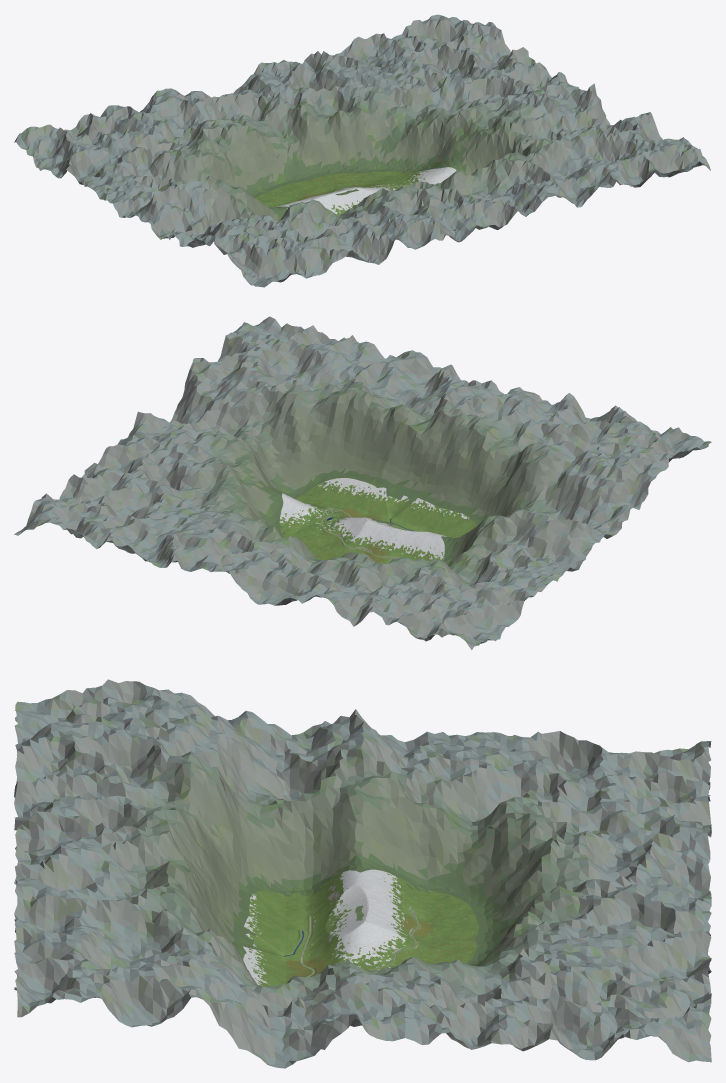
Rendered from alps.glb.
The picture shows the model from 3 angles, top to bottom: view 1: azimuth 30°, elevation 25°; view 2: azimuth 150°, elevation 25°; view 3: azimuth 270°, elevation 25°; orthographic projection. The views are drawn at different scales.
Parts seen in each view (by area): view 1: SM_Alps_Backdrop_0; view 2: SM_Alps_Backdrop_0, SM_Alps_Tile_1_3, SM_Alps_Tile_6_3; view 3: SM_Alps_Backdrop_0, SM_Alps_Tile_4_3, SM_Alps_Tile_4_2, SM_Alps_Tile_2_2, SM_Alps_Tile_4_4, SM_Alps_Tile_2_3, SM_Alps_Tile_1_2, SM_Alps_Tile_5_3, SM_Alps_Tile_1_1, SM_Alps_Tile_1_3, SM_Alps_Tile_2_1, SM_Alps_Tile_3_1 (+9 smaller).
Boxes of the visible parts, x1,y1,x2,y2 form: SM_Alps_Backdrop_0: [14, 14, 710, 287]; SM_Alps_Backdrop_0: [14, 316, 711, 650]; SM_Alps_Tile_1_3: [409, 531, 446, 553]; SM_Alps_Tile_6_3: [285, 503, 323, 527]; SM_Alps_Backdrop_0: [14, 679, 711, 1068]; SM_Alps_Tile_4_3: [351, 921, 392, 955]; SM_Alps_Tile_4_2: [310, 927, 351, 966]; SM_Alps_Tile_2_2: [310, 891, 351, 933]; SM_Alps_Tile_4_4: [392, 932, 434, 963]; SM_Alps_Tile_2_3: [351, 887, 392, 914]; SM_Alps_Tile_1_2: [310, 872, 351, 916]; SM_Alps_Tile_5_3: [351, 948, 392, 970]; SM_Alps_Tile_1_1: [269, 893, 310, 918]; SM_Alps_Tile_1_3: [351, 870, 392, 898]; SM_Alps_Tile_2_1: [269, 910, 310, 934]; SM_Alps_Tile_3_1: [269, 927, 310, 951].
Bounding box in the file's own units: 4751 × 847 × 4346.
